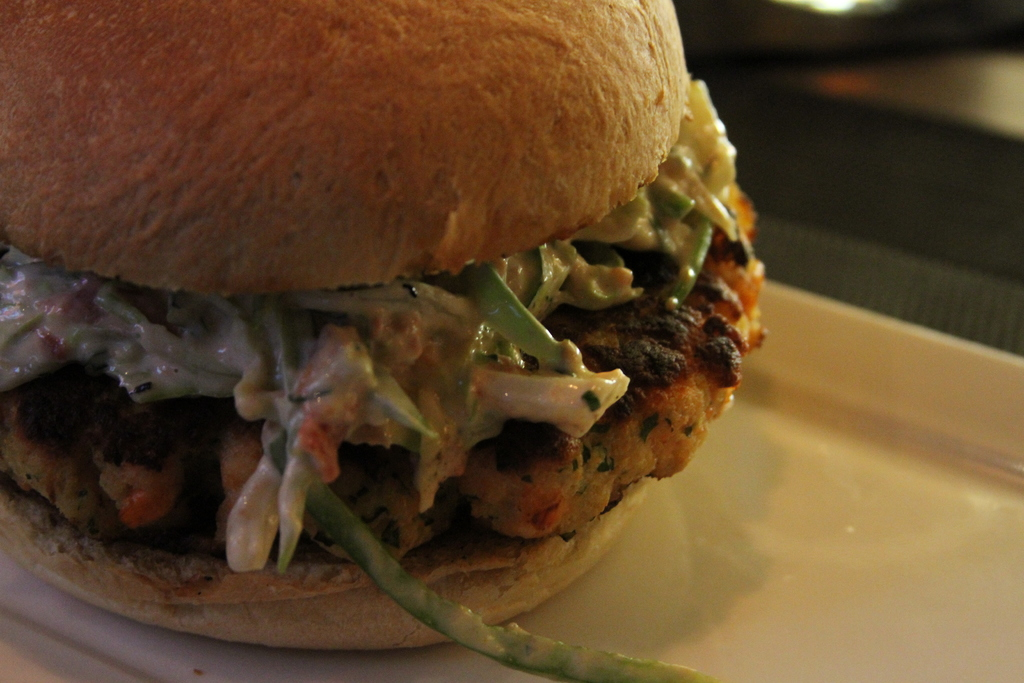Hamburger: (0, 0, 773, 682)
